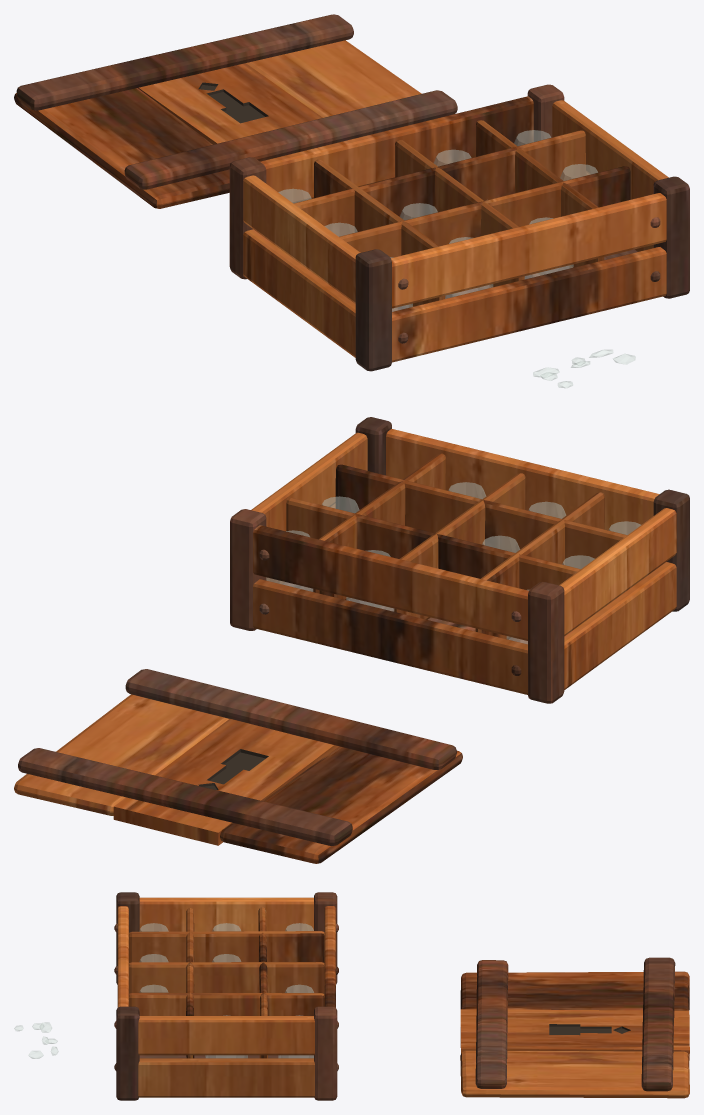
The model's file is lw_chimney_crate.glb.
3 views of the same model, one above another, from view 1: azimuth 30°, elevation 25°; view 2: azimuth 150°, elevation 25°; view 3: azimuth 270°, elevation 25° (orthographic). The views are drawn at different scales.
Visible parts, largest first — view 1: model; view 2: model; view 3: model.
Part boxes in pixels (box(x1,y1,x2,y2)): model: box(14, 14, 689, 388); model: box(14, 417, 689, 863); model: box(14, 892, 689, 1100).
Size of the model in its own units: 0.565 by 0.1879 by 1.3.
Materials: 30 (7 with a texture image).
